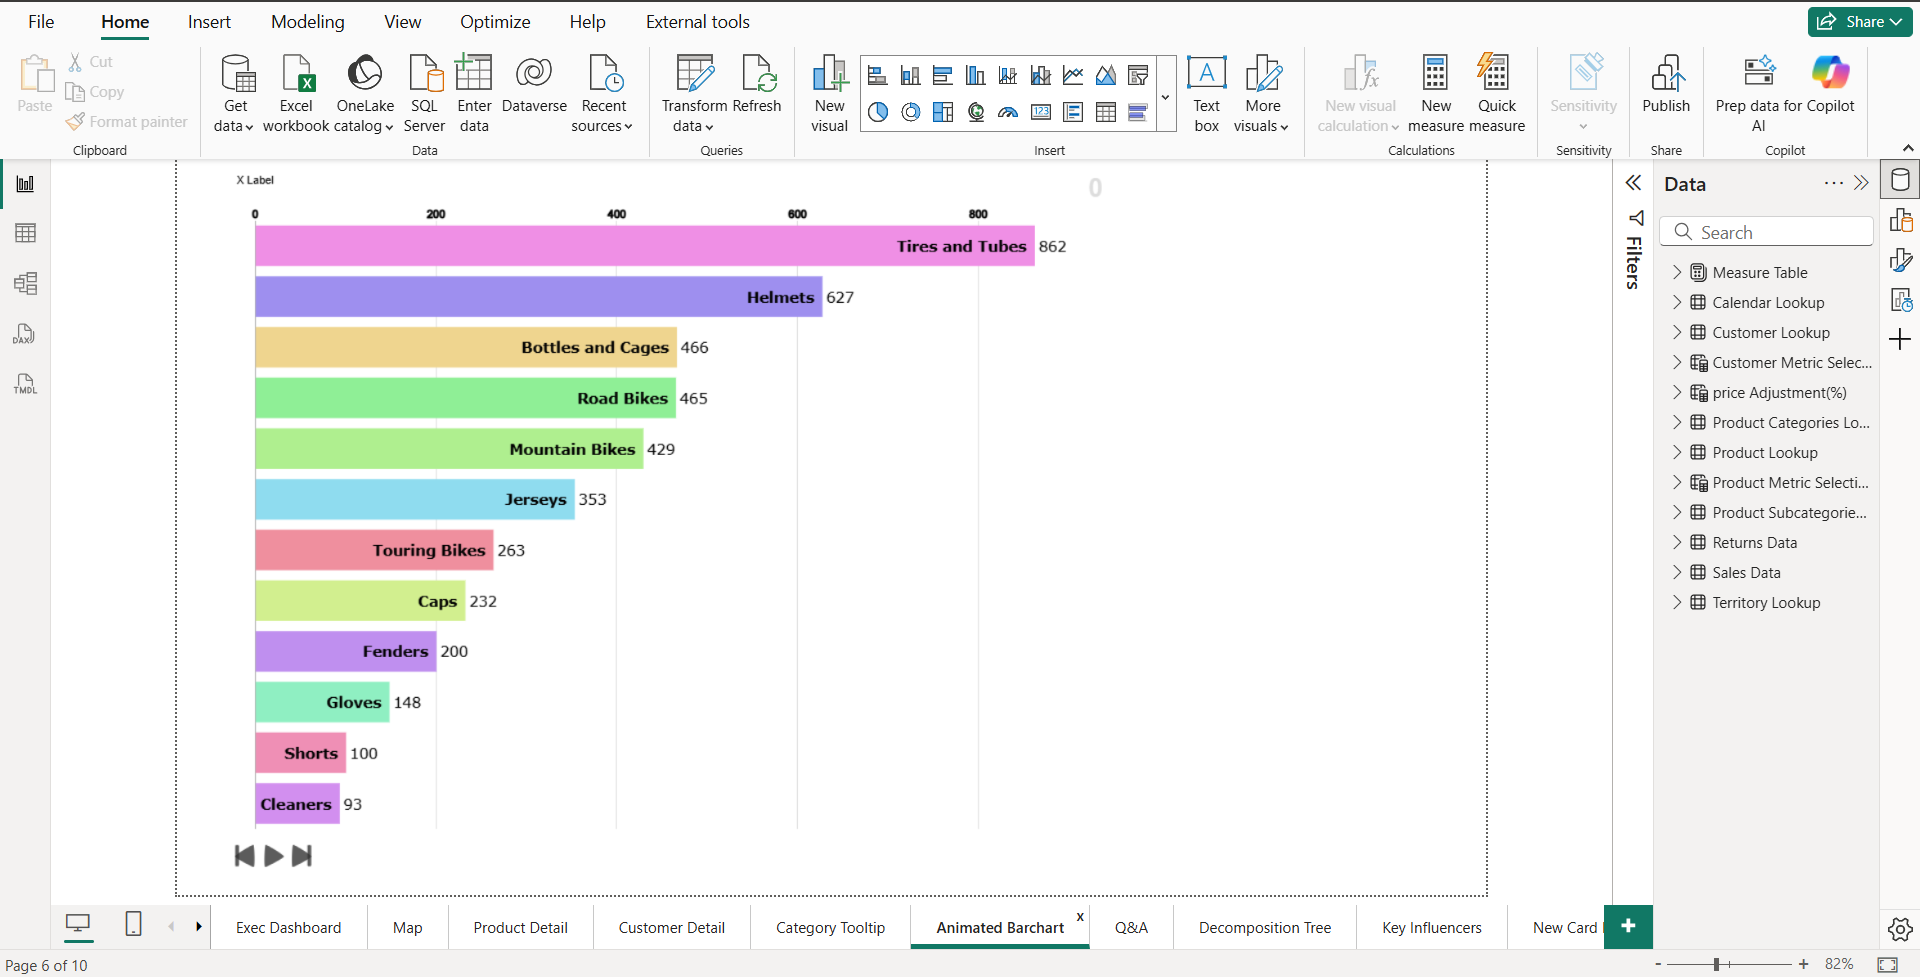

Layout of this report page (visuals, bound fields, positions):
{"tool":"powerbi","page":{"name":"Animated Barchart","canvas":[1280,720],"ordinal":5},"visuals":[{"type":"RaceBarChart828E7F9A76D539488CE6C92657D234CF","fields":{"barRaceChart_chartItems":["Product Subcategories Lookup.SubcategoryName"],"barRaceChart_chartValues":["Measure Table.Total Orders"],"barRaceChart_chartPeriods":["Calendar Lookup.Start of Month"]},"box":[9.8,0,929,710.2],"z":0}]}

Visuals, with their boxes on the page's 1280x720 design canvas (x1, y1, x2, y2). These are canvas units, not pixel positions in the 1920x977 screenshot, which may show the page scaled, cropped or inside an application window:
RaceBarChart828E7F9A76D539488CE6C92657D234CF - Product Subcategories Lookup.SubcategoryName x Measure Table.Total Orders: locate(10, 0, 939, 710)
